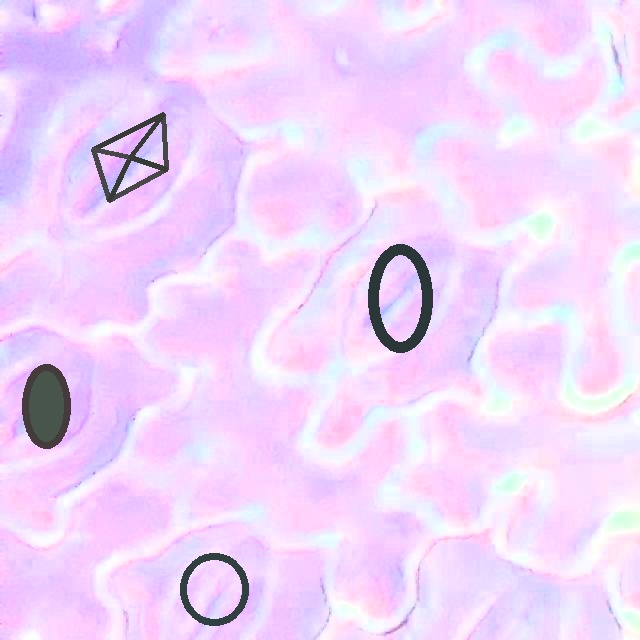open: (91, 112, 168, 202), (368, 244, 432, 351), (179, 552, 248, 626), (22, 365, 71, 448)
